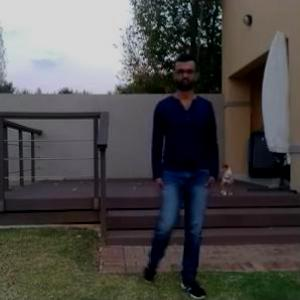follow: (140, 52, 219, 292)
